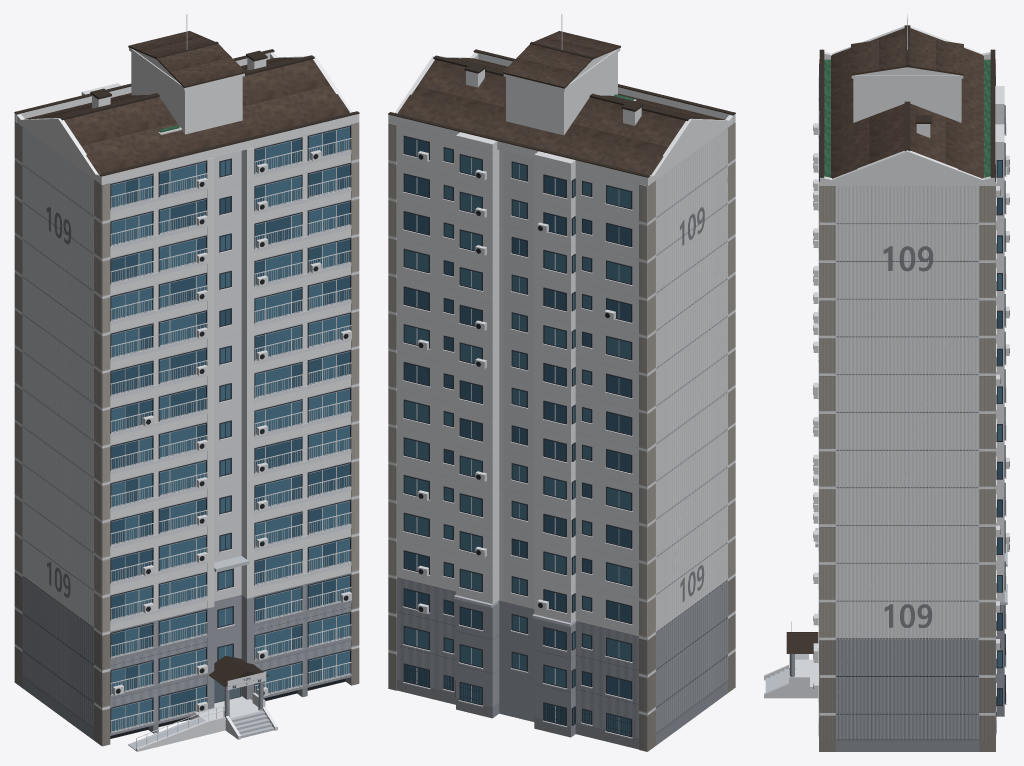
Rendered from place_행당대림109.glb.
3 views of the same model, side by side, from view 1: azimuth 30°, elevation 25°; view 2: azimuth 150°, elevation 25°; view 3: azimuth 270°, elevation 25° (orthographic).
Parts seen in each view (by area): view 1: EndWall_NNW_109, Merged_Window_Glass_Main, Merged_Balcony_SilverRails, Merged_Window_Glass_Alt, Wing_Unit1_Upper4to15F, Merged_Window_OuterFrames, GableRoof_Slope_Front, Wing_Unit2_Upper4to15F, Building_Architecture, Merged_Window_InnerSashes, Central_Core_Upper, Front_Spandrel_Bands_Upper (+16 smaller); view 2: EndWall_NNW_109, Wing_Unit1_Upper4to15F, Wing_Unit2_Upper4to15F, Merged_Window_Glass_Main, Merged_Window_OuterFrames, Merged_Window_Glass_Alt, Rear_LBent_Unit2_Upper, Rear_LBent_Unit1_Upper, GableRoof_Slope_Rear, Central_Core_Upper, Central_Elevator_Penthouse, Merged_Window_InnerSashes (+18 smaller); view 3: EndWall_SSE_109, Central_Elevator_Penthouse, GableRoof_Slope_Front, GableRoof_Slope_Rear, EndWall_GablePeak_SSE, Merged_AC_Unit_Bodies, Front_109_Gable_Entrance_Porch, Rear_LBent_Unit2_Upper, Rooftop_And_Penthouse, Merged_Window_OuterFrames, Roof_GreenGutter_Front, Roof_GreenGutter_Rear (+8 smaller).
Boxes of the visible parts, x1=… form: EndWall_NNW_109: x1=14, y1=121, x2=101, y2=745; Merged_Window_Glass_Main: x1=111, y1=127, x2=349, y2=731; Merged_Balcony_SilverRails: x1=110, y1=138, x2=351, y2=733; Merged_Window_Glass_Alt: x1=111, y1=130, x2=349, y2=716; Wing_Unit1_Upper4to15F: x1=19, y1=124, x2=206, y2=633; Merged_Window_OuterFrames: x1=110, y1=125, x2=351, y2=732; GableRoof_Slope_Front: x1=64, y1=59, x2=349, y2=173; Wing_Unit2_Upper4to15F: x1=254, y1=124, x2=350, y2=596; Building_Architecture: x1=81, y1=83, x2=345, y2=738; Merged_Window_InnerSashes: x1=111, y1=127, x2=350, y2=731; Central_Core_Upper: x1=214, y1=151, x2=241, y2=601; Front_Spandrel_Bands_Upper: x1=110, y1=151, x2=351, y2=624; EndWall_NNW_109: x1=648, y1=122, x2=735, y2=751; Wing_Unit1_Upper4to15F: x1=575, y1=125, x2=730, y2=638; Wing_Unit2_Upper4to15F: x1=397, y1=125, x2=499, y2=600; Merged_Window_Glass_Main: x1=404, y1=148, x2=630, y2=735; Merged_Window_OuterFrames: x1=403, y1=135, x2=632, y2=737; Merged_Window_Glass_Alt: x1=404, y1=137, x2=630, y2=724; Rear_LBent_Unit2_Upper: x1=456, y1=144, x2=497, y2=603; Rear_LBent_Unit1_Upper: x1=534, y1=163, x2=575, y2=622; GableRoof_Slope_Rear: x1=398, y1=59, x2=685, y2=174; Central_Core_Upper: x1=503, y1=151, x2=534, y2=608; Central_Elevator_Penthouse: x1=503, y1=14, x2=636, y2=135; Merged_Window_InnerSashes: x1=402, y1=140, x2=632, y2=738; EndWall_SSE_109: x1=820, y1=186, x2=994, y2=751; Central_Elevator_Penthouse: x1=851, y1=14, x2=963, y2=122; GableRoof_Slope_Front: x1=831, y1=28, x2=904, y2=178; GableRoof_Slope_Rear: x1=910, y1=28, x2=983, y2=178; EndWall_GablePeak_SSE: x1=824, y1=150, x2=990, y2=185; Merged_AC_Unit_Bodies: x1=813, y1=123, x2=1009, y2=692; Front_109_Gable_Entrance_Porch: x1=764, y1=632, x2=818, y2=698; Rear_LBent_Unit2_Upper: x1=995, y1=150, x2=1004, y2=602; Rooftop_And_Penthouse: x1=819, y1=25, x2=995, y2=177; Merged_Window_OuterFrames: x1=819, y1=64, x2=1005, y2=705; Roof_GreenGutter_Front: x1=824, y1=59, x2=830, y2=177; Roof_GreenGutter_Rear: x1=984, y1=59, x2=990, y2=177.
Bounding box in the file's own units: 20.58 × 50.95 × 16.84.
Materials: 30 (10 with a texture image).
